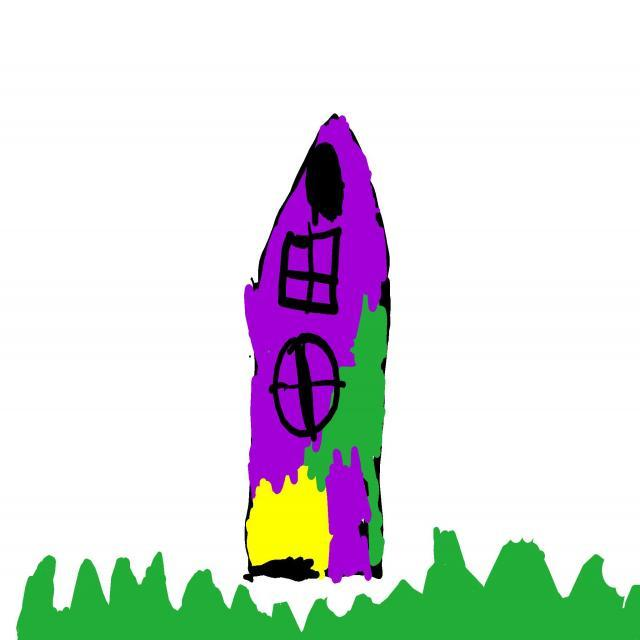door: (322, 446, 372, 582)
house: (244, 115, 390, 584)
wall: (245, 273, 387, 583)
window: (270, 334, 346, 442), (279, 230, 342, 314)
